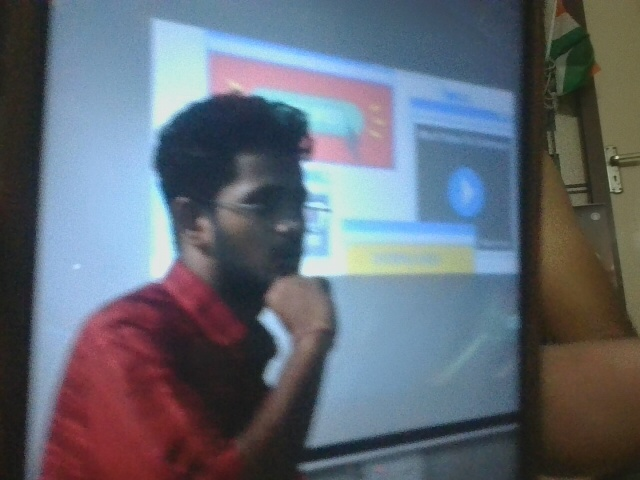fake: (291, 137, 348, 194)
